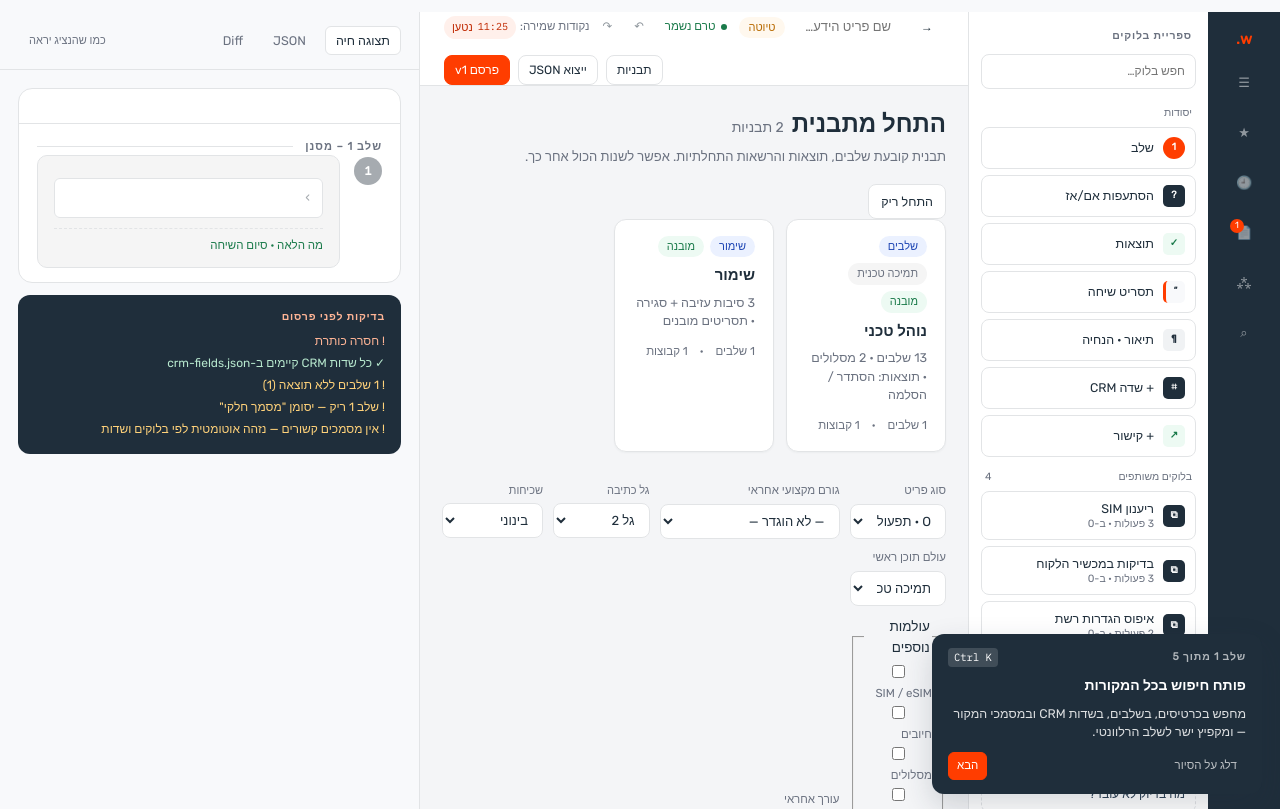
template gallery › starts blank on request
The image size is (1280, 809).
Click the button "התחל ריק". click: {"x": 907, "y": 201}
box: [868,184,946,219]
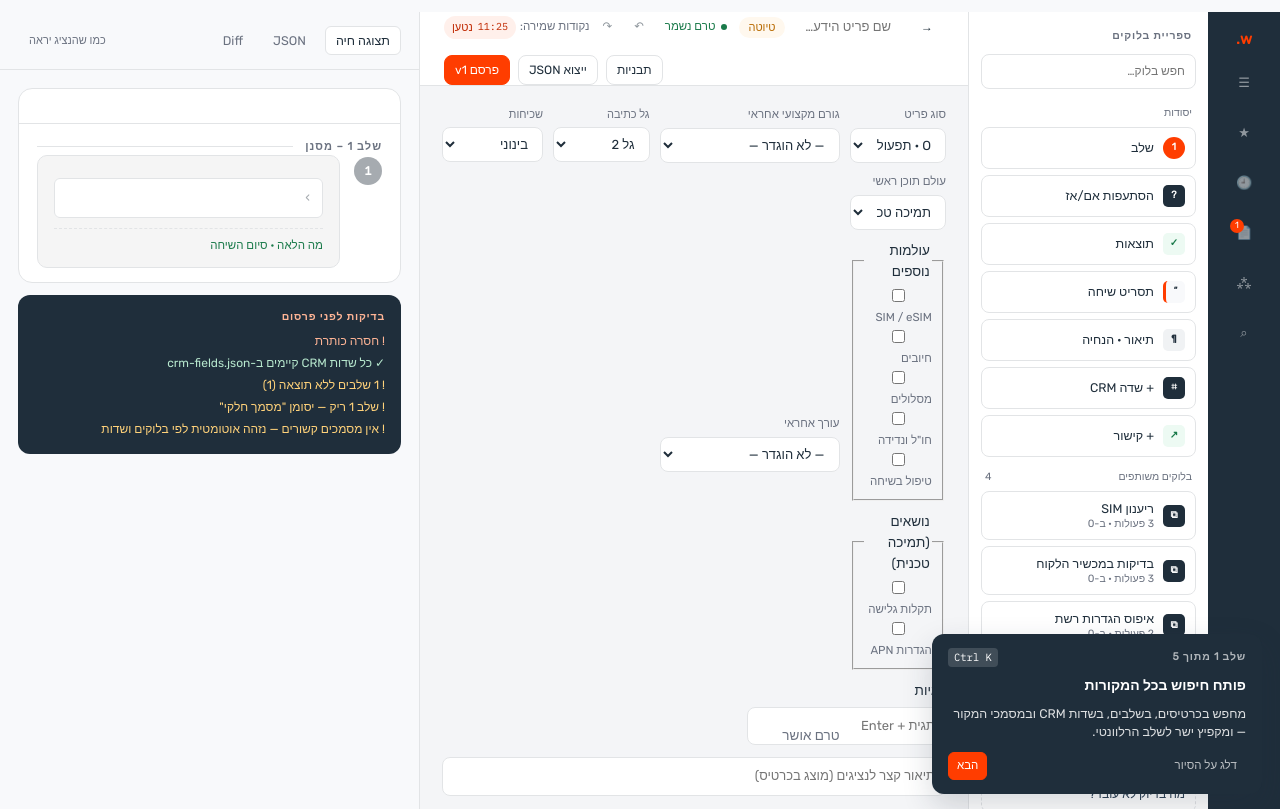
Now the heading "התחל מתבנית" is gone
